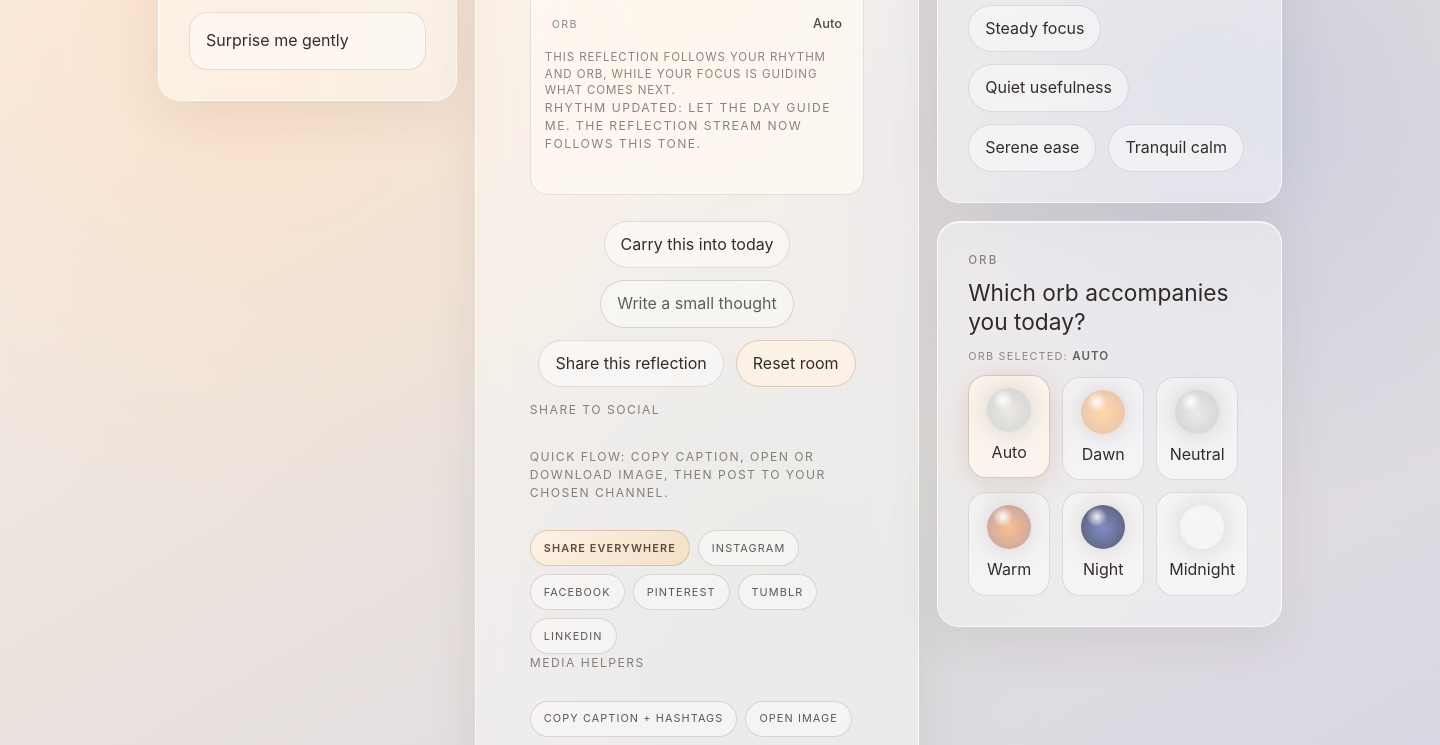
Test: Quiet Room › copies a social-ready reflection when sharing
(page scrolled)
Click the button "Share this reflection". click: [631, 364]
box: [538,340,724,387]
(page scrolled)
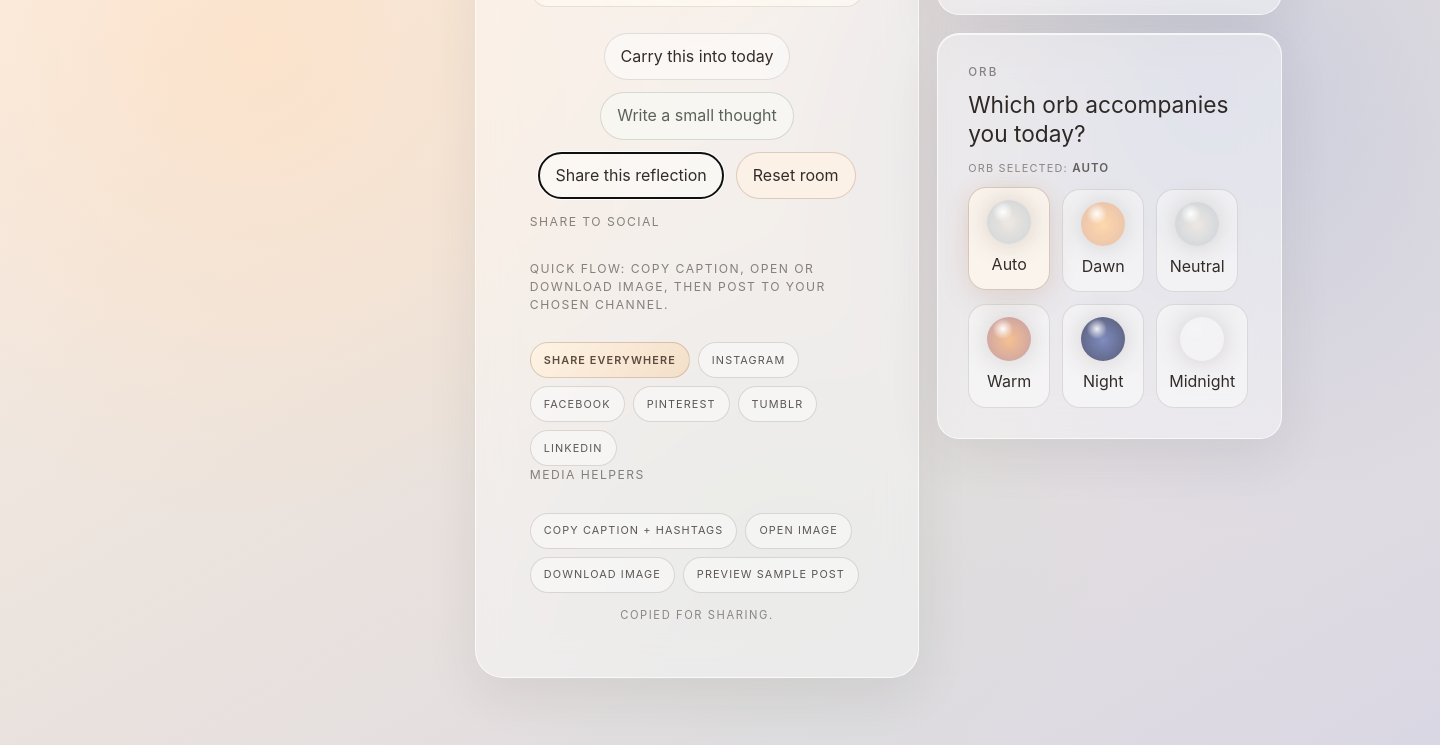
Check: the text "Copied for sharing." is shown, box [620,608,774,622]
